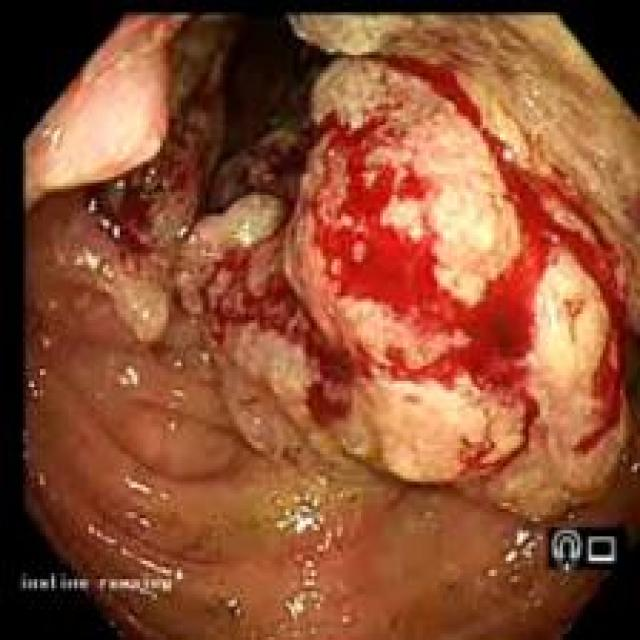blood: (203, 55, 630, 480), (86, 187, 163, 266)
color misalignment: (554, 532, 620, 572), (22, 577, 173, 593)
saturation: (437, 190, 494, 245)
specularity: (289, 564, 324, 619), (279, 496, 324, 530), (138, 561, 185, 580), (77, 258, 114, 279), (237, 221, 255, 250), (91, 530, 116, 543), (128, 482, 151, 493), (52, 132, 64, 153), (319, 535, 331, 556), (504, 148, 521, 161), (124, 372, 138, 387), (526, 543, 539, 559), (519, 535, 531, 546), (173, 393, 185, 401), (44, 129, 52, 140), (148, 171, 156, 182), (230, 601, 240, 609), (32, 385, 37, 398), (104, 221, 111, 229), (116, 229, 121, 240), (509, 554, 516, 561), (143, 316, 151, 322), (119, 185, 126, 190), (91, 206, 96, 213), (161, 496, 168, 501), (42, 372, 47, 377), (143, 522, 148, 527), (492, 572, 497, 577), (178, 364, 183, 366), (126, 554, 128, 556)
